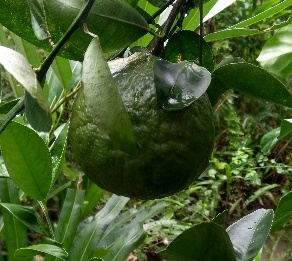Cam: (66, 49, 217, 200)
